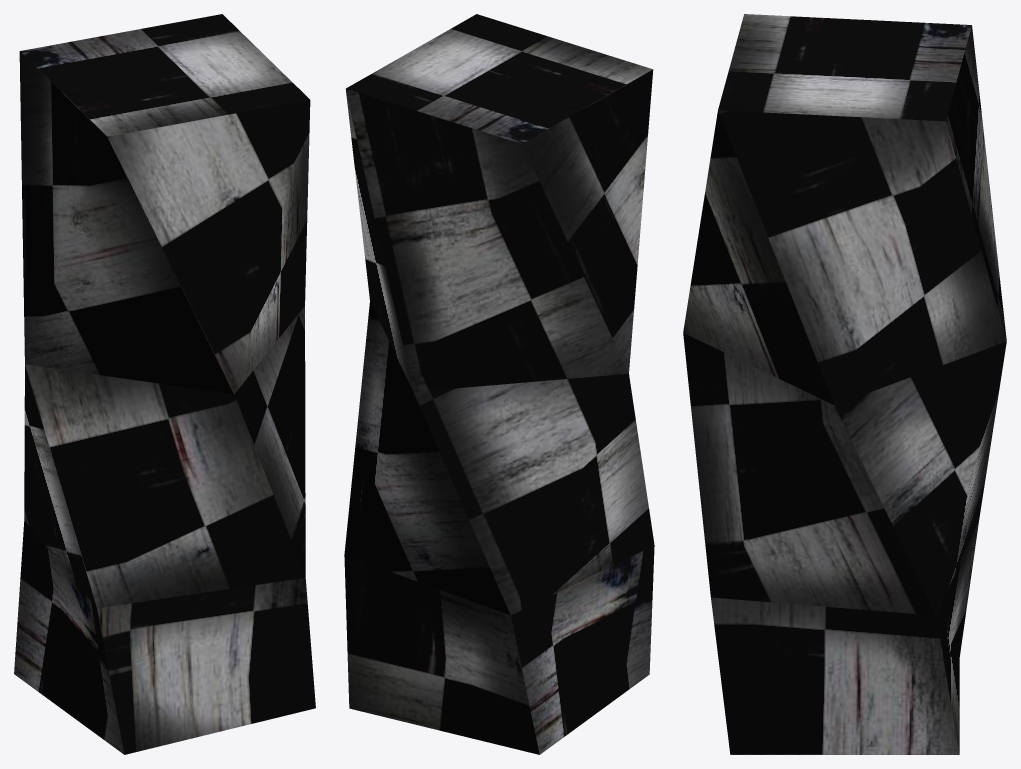
File: R2_Wall.obj
3 views of the same model, side by side, from view 1: azimuth 30°, elevation 25°; view 2: azimuth 150°, elevation 25°; view 3: azimuth 270°, elevation 25° (orthographic). The views are drawn at different scales.
Parts seen in each view (by area): view 1: Cube.001_Cube.002; view 2: Cube.001_Cube.002; view 3: Cube.001_Cube.002.
Part boxes in pixels (x1=…): Cube.001_Cube.002: x1=14, y1=14, x2=315, y2=754; Cube.001_Cube.002: x1=344, y1=14, x2=654, y2=754; Cube.001_Cube.002: x1=683, y1=14, x2=1006, y2=754.
Bounding box in the file's own units: 2.82 × 6.15 × 2.82.
1 material, 1 textured.
